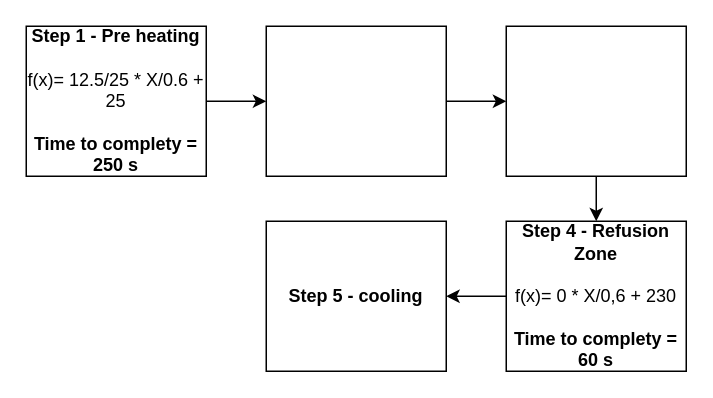
The diagram is 713 pixels wide and 398 high, and some of its shapes have lost their labels. The shapes that lost their labels are listed below. From the top down, each one's box as (x1, y1, x2, y2) in pixels, then its label:
(265, 25, 446, 176): Step 2 - Heal zone f(x)= 5/9 * X/0,6 + 150 Time to complety = 90 s
(505, 25, 686, 176): Step 3 - Ramp zone f(x)= 3/9 * X/0,6 + 200 Time to complety = 90 s
